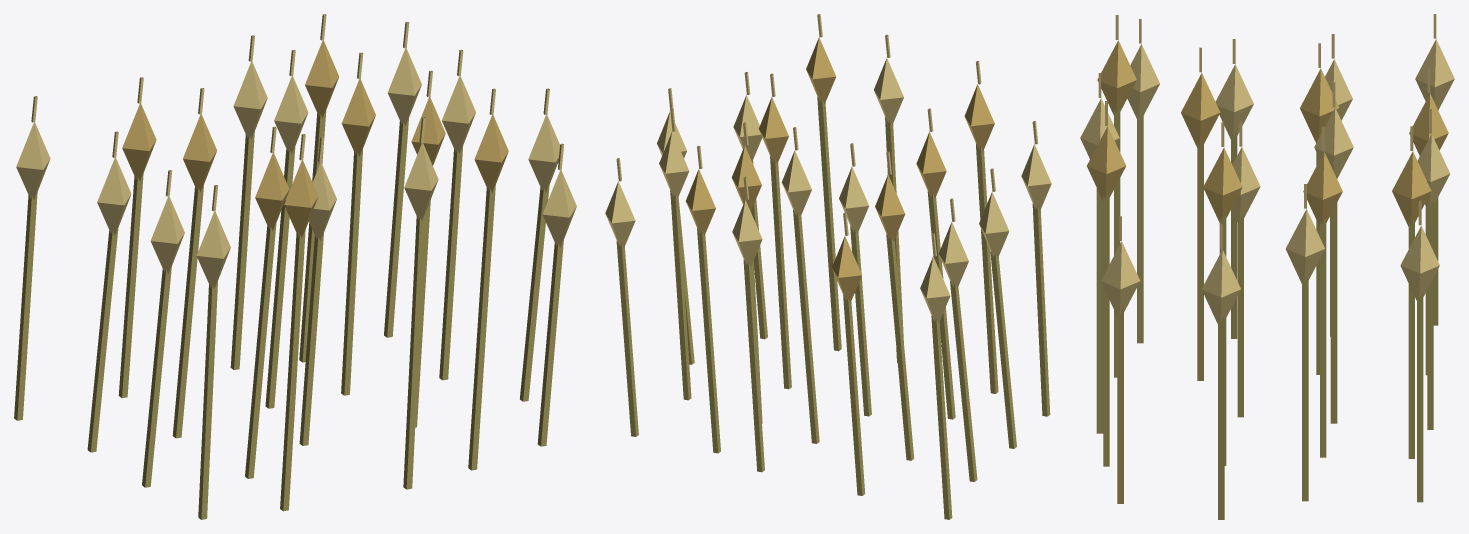
The model's file is ua_wheat_patch.obj.
3 views of the same model, side by side, from view 1: azimuth 30°, elevation 25°; view 2: azimuth 150°, elevation 25°; view 3: azimuth 270°, elevation 25° (orthographic). The views are drawn at different scales.
Visible parts, largest first — view 1: ua_wheat_patch; view 2: ua_wheat_patch; view 3: ua_wheat_patch.
Part boxes in pixels (x1,y1,x2,y2): ua_wheat_patch: (14,14,576,519); ua_wheat_patch: (605,14,1051,519); ua_wheat_patch: (1080,14,1454,519).
Bounding box in the file's own units: 1.41 × 1.15 × 1.04.
